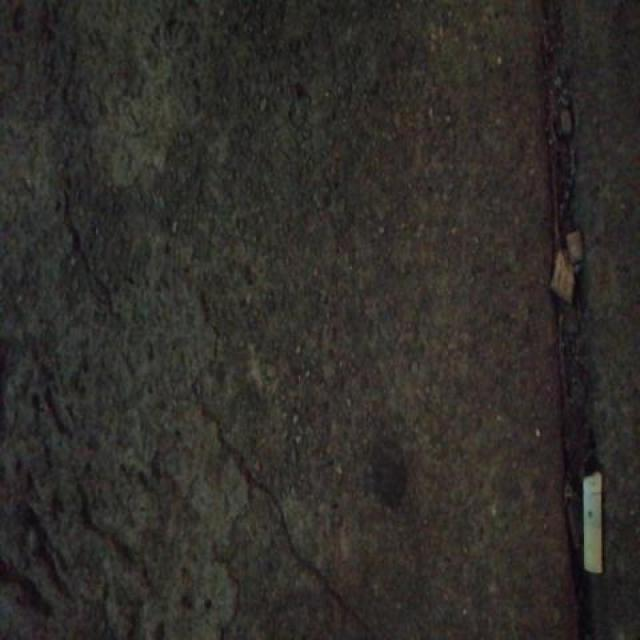non-organic waste: (579, 469, 606, 580)
